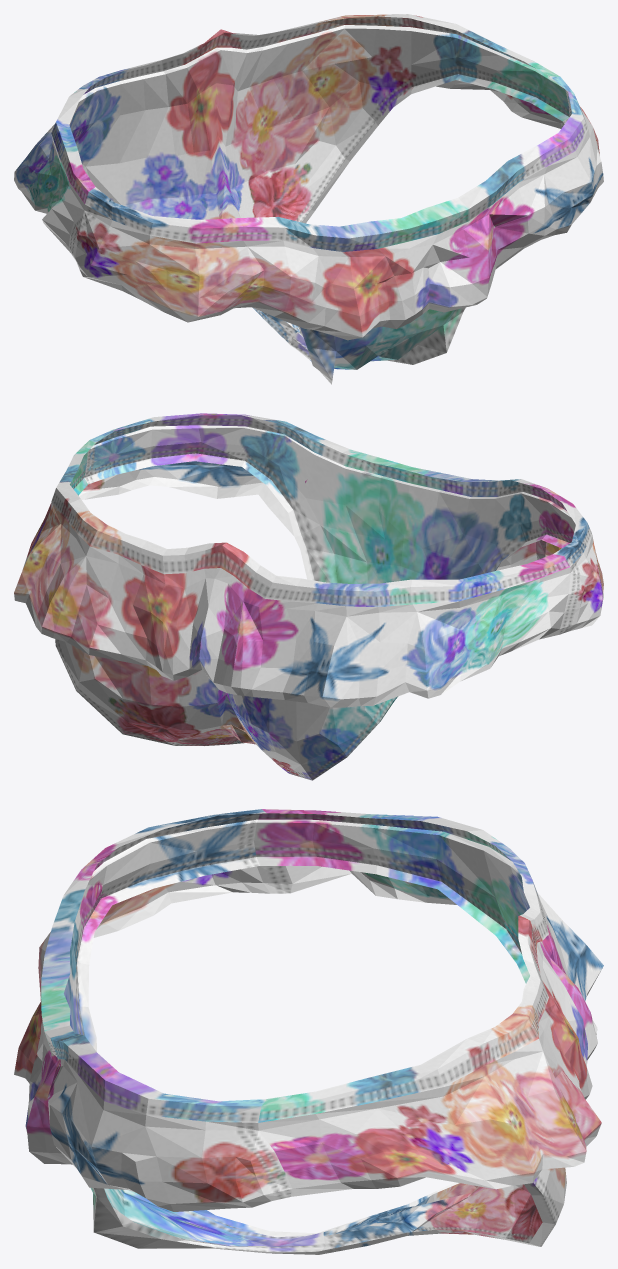
Rendered from mhw_punkduck_frill_bikini_bottom.glb.
3 views of the same model, one above another, from view 1: azimuth 30°, elevation 25°; view 2: azimuth 150°, elevation 25°; view 3: azimuth 270°, elevation 25° (orthographic). The views are drawn at different scales.
Visible parts, largest first — view 1: mhw_punkduck_frill_bikini_bottom; view 2: mhw_punkduck_frill_bikini_bottom; view 3: mhw_punkduck_frill_bikini_bottom.
Part boxes in pixels (bbox=[...]): mhw_punkduck_frill_bikini_bottom: bbox=[14, 14, 603, 384]; mhw_punkduck_frill_bikini_bottom: bbox=[14, 413, 603, 780]; mhw_punkduck_frill_bikini_bottom: bbox=[14, 809, 603, 1254].
Bounding box in the file's own units: 0.3561 × 0.1686 × 0.2734.
1 material, 1 textured.
